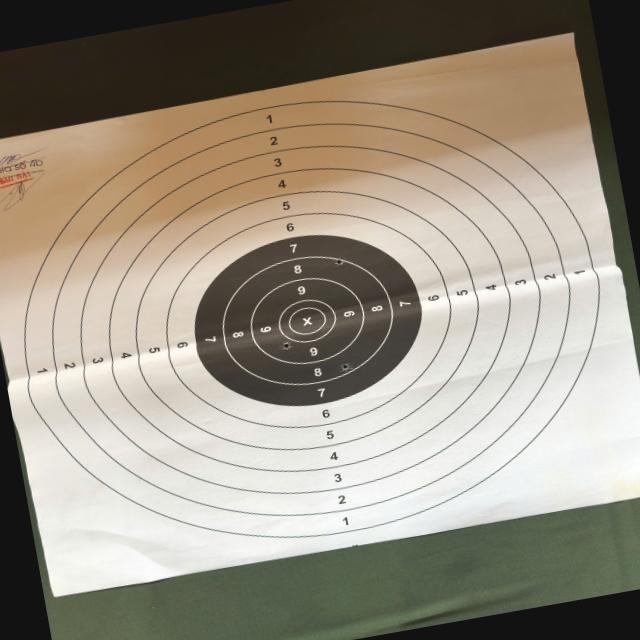bullet: (341, 363, 350, 370), (282, 342, 290, 349), (335, 259, 344, 265)
target: (0, 33, 640, 595)
